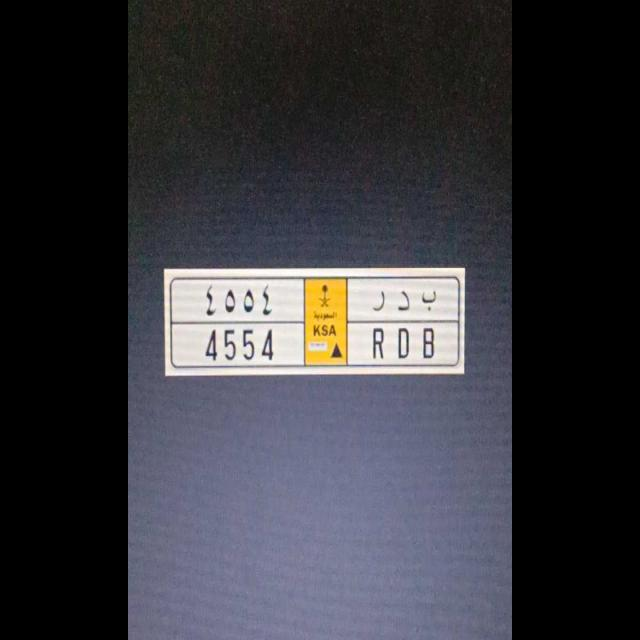license_plate: (177, 324, 452, 370)
